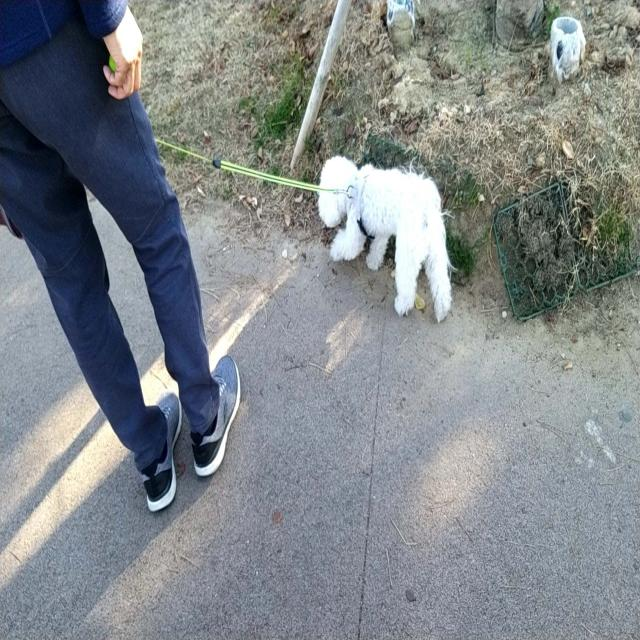Leashed_Dog: (23, 122, 457, 326)
